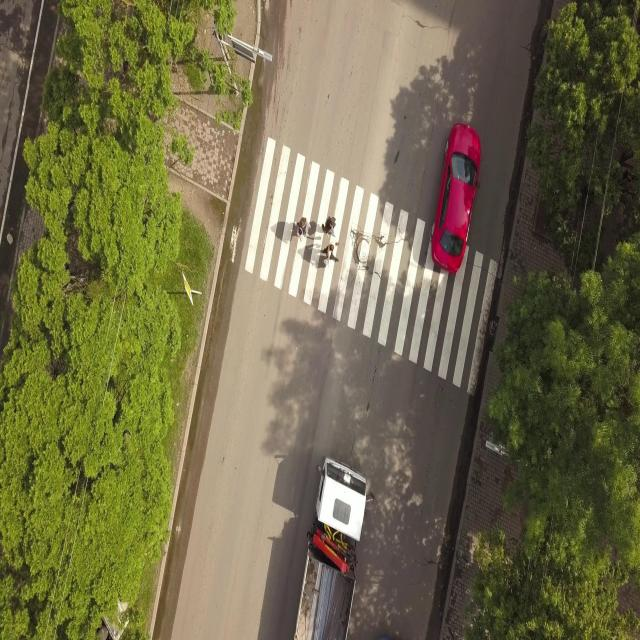Car: (427, 119, 485, 276)
Truck: (287, 450, 376, 640)
